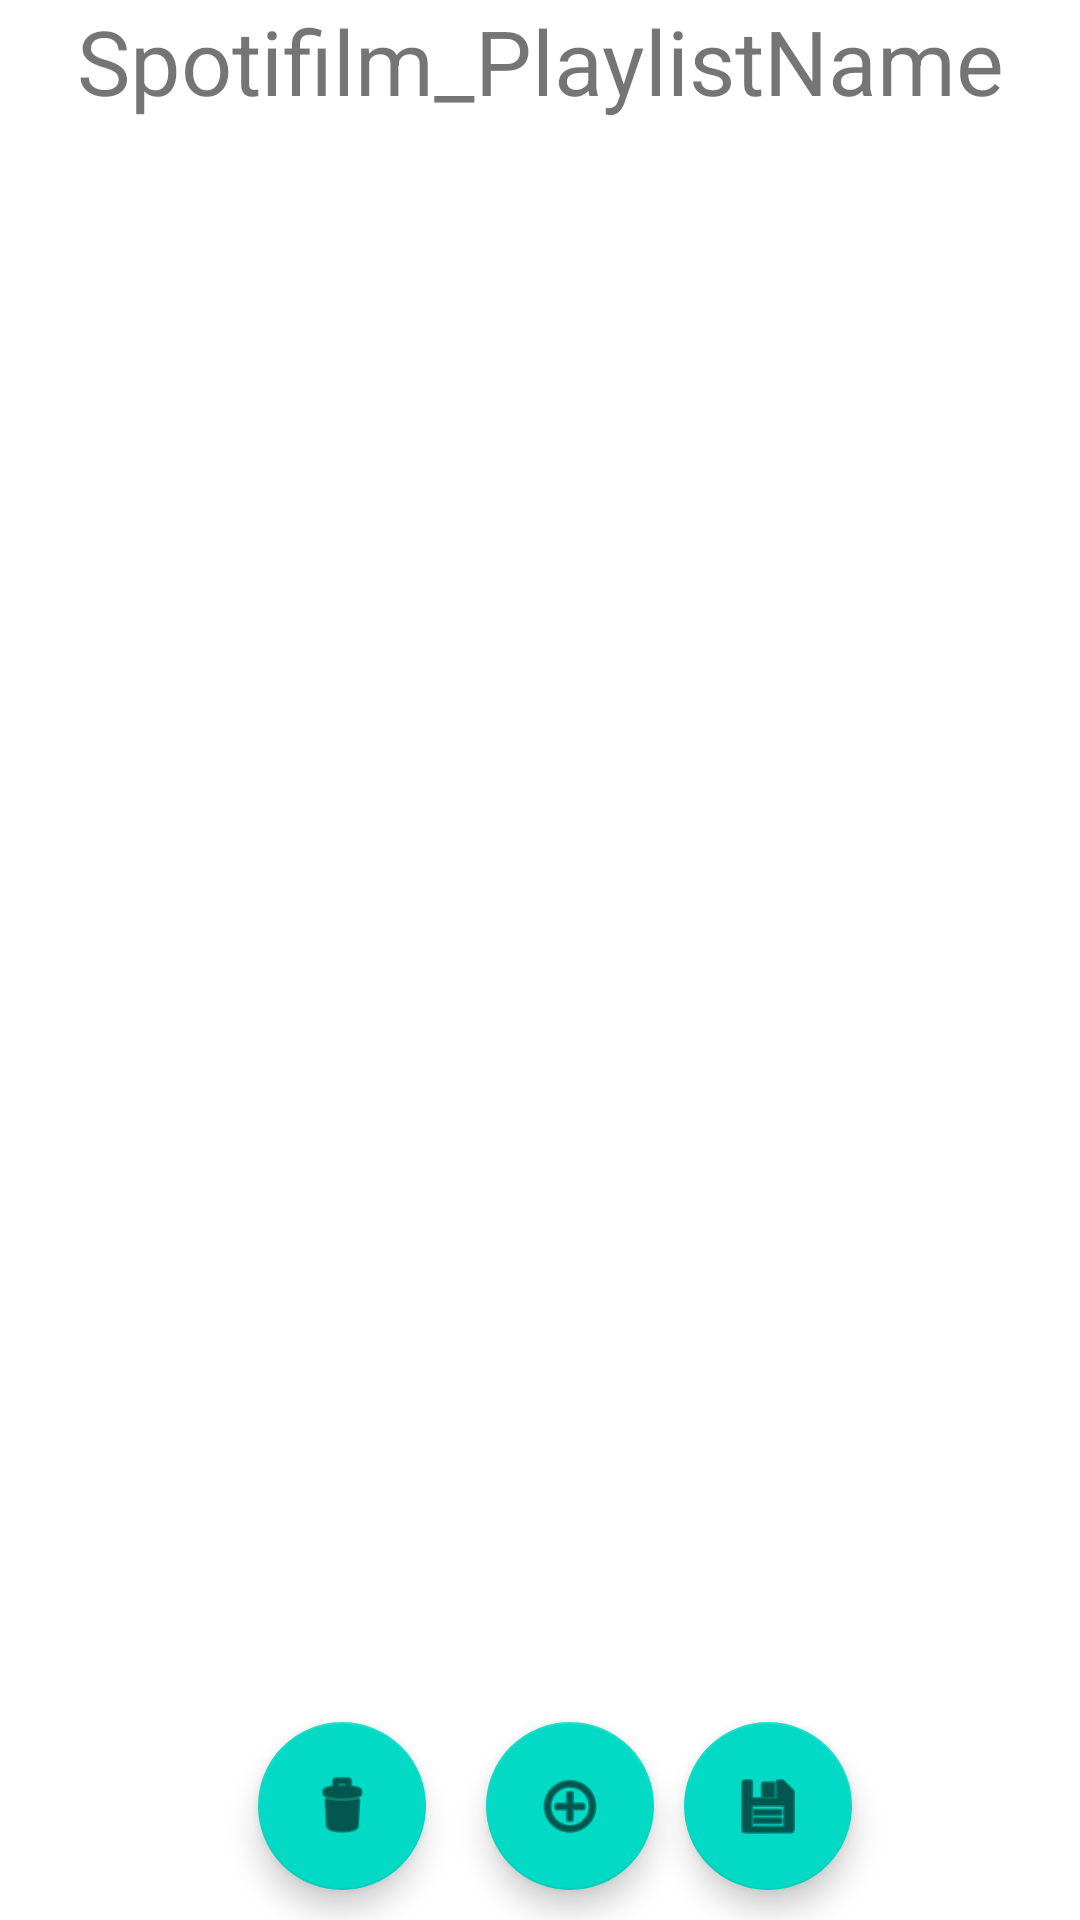

Icon bounding boxes for this 1080w x 1920h phone screenshot, format (x1, y1, x2, y2):
add: (486, 1722, 654, 1890)
delete: (258, 1722, 426, 1890)
save: (684, 1722, 852, 1890)
